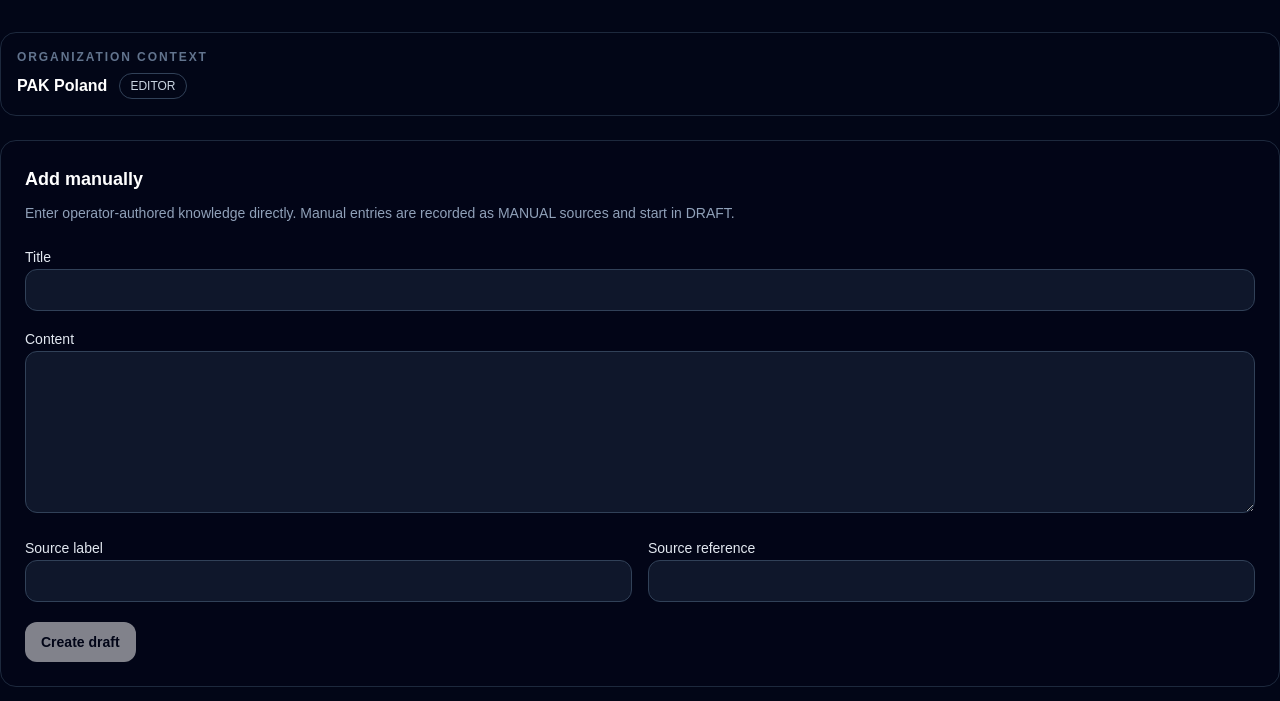
Scenario: KnowledgeBaseManager › always creates manual form records with sourceType MANUAL
Type "Manual programme note" into the field labelled "Title" at point(640, 290), box top-left (25, 269), bottom-right (1255, 311)
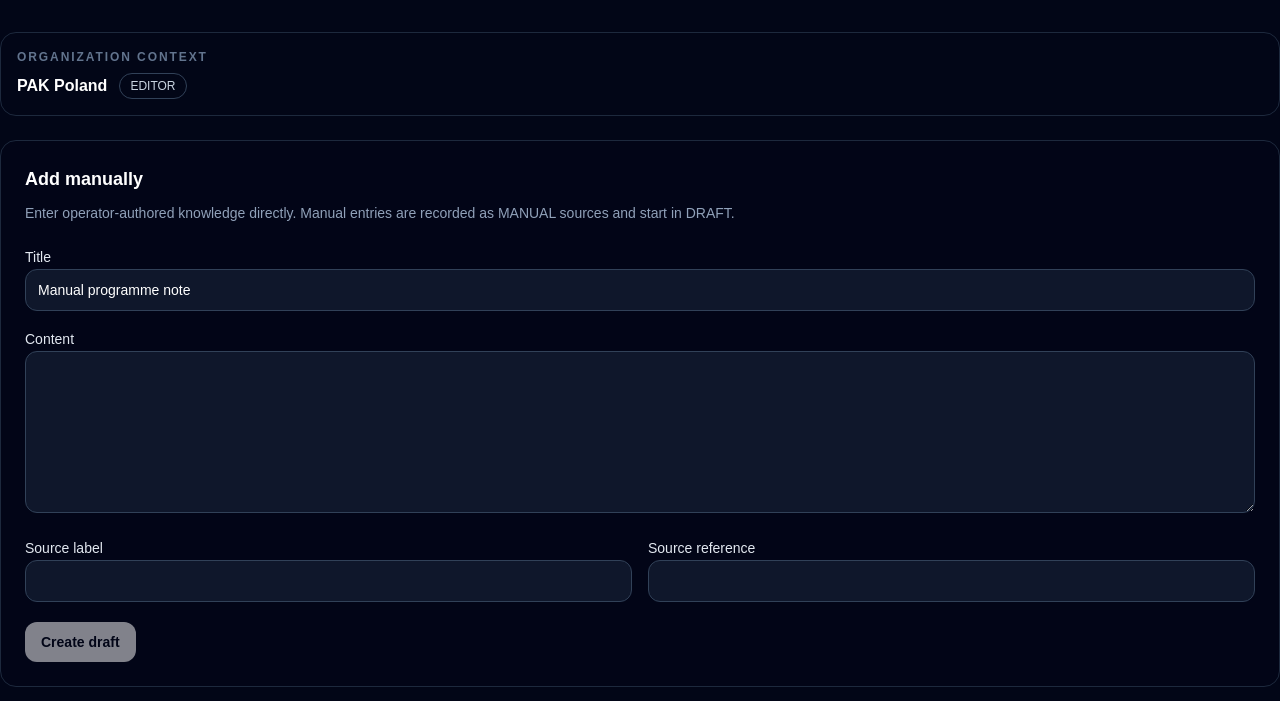
Type "Operator-entered programme context." into the text box labelled "Content" at point(640, 432), box top-left (25, 351), bottom-right (1255, 513)
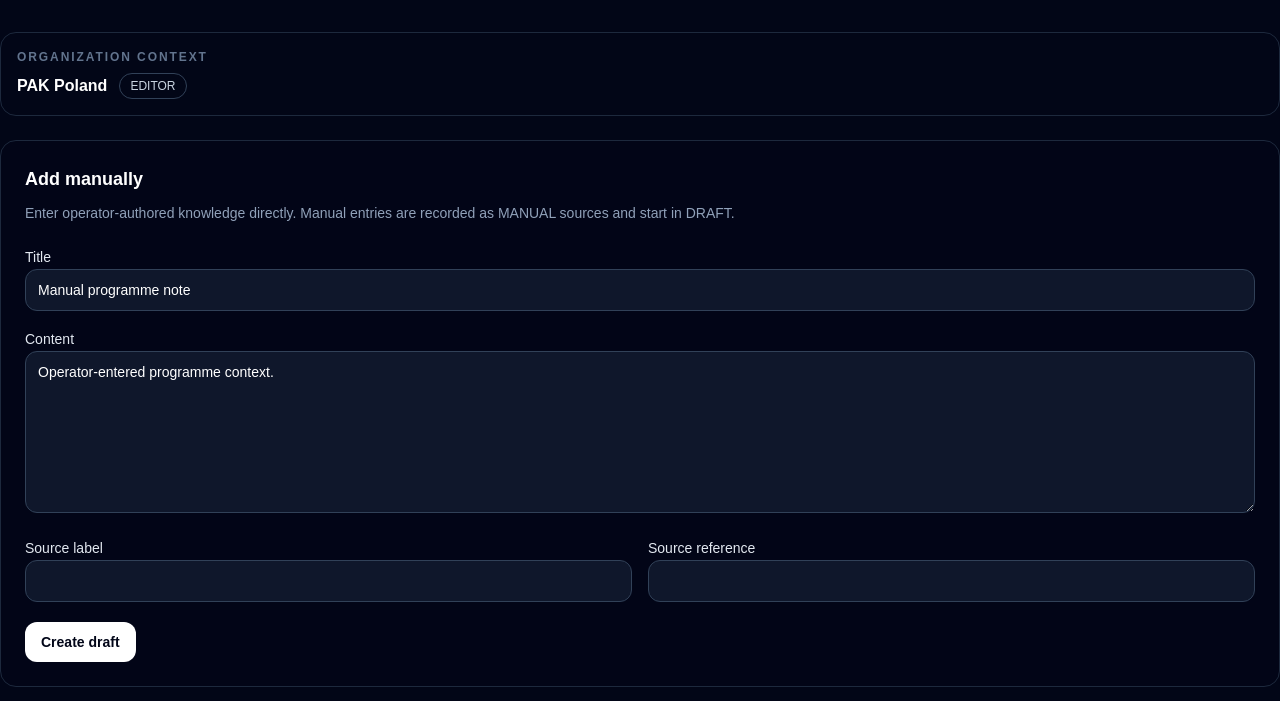
Type "Admissions desk" into the field labelled "Source label" at point(328, 581), box top-left (25, 560), bottom-right (632, 602)
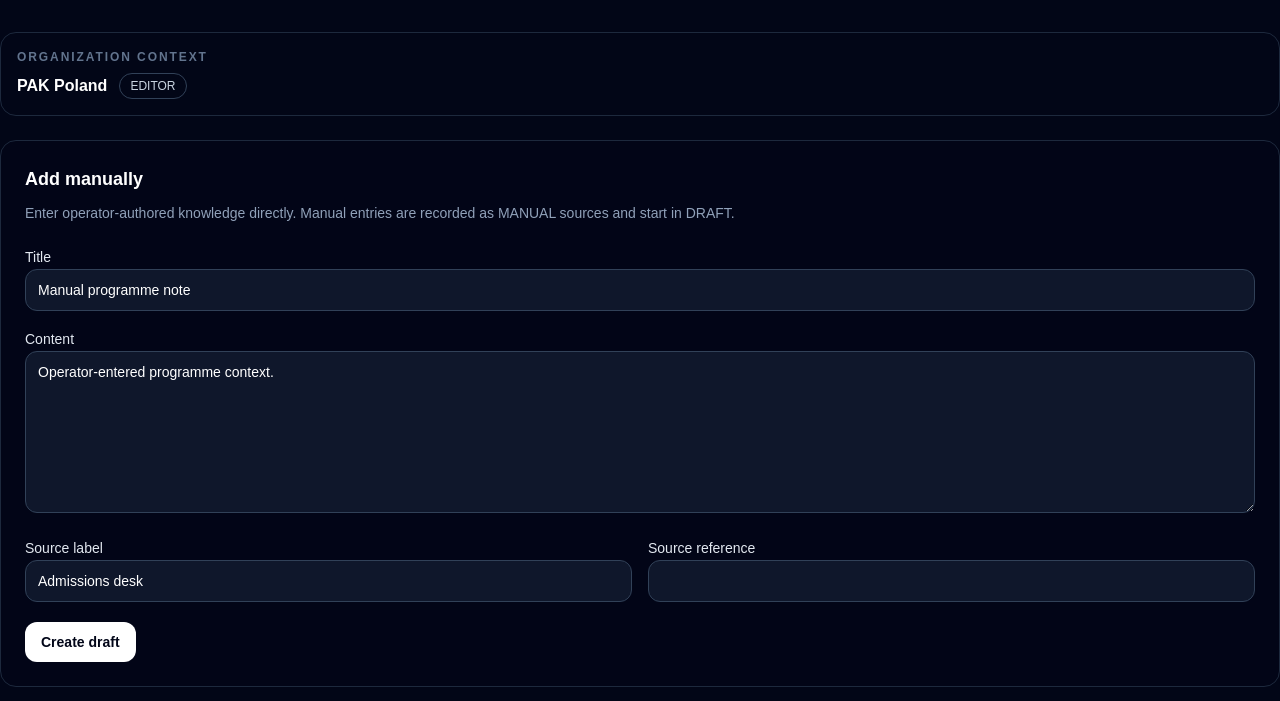
Type "Internal briefing" into the field labelled "Source reference" at point(952, 581), box top-left (648, 560), bottom-right (1255, 602)
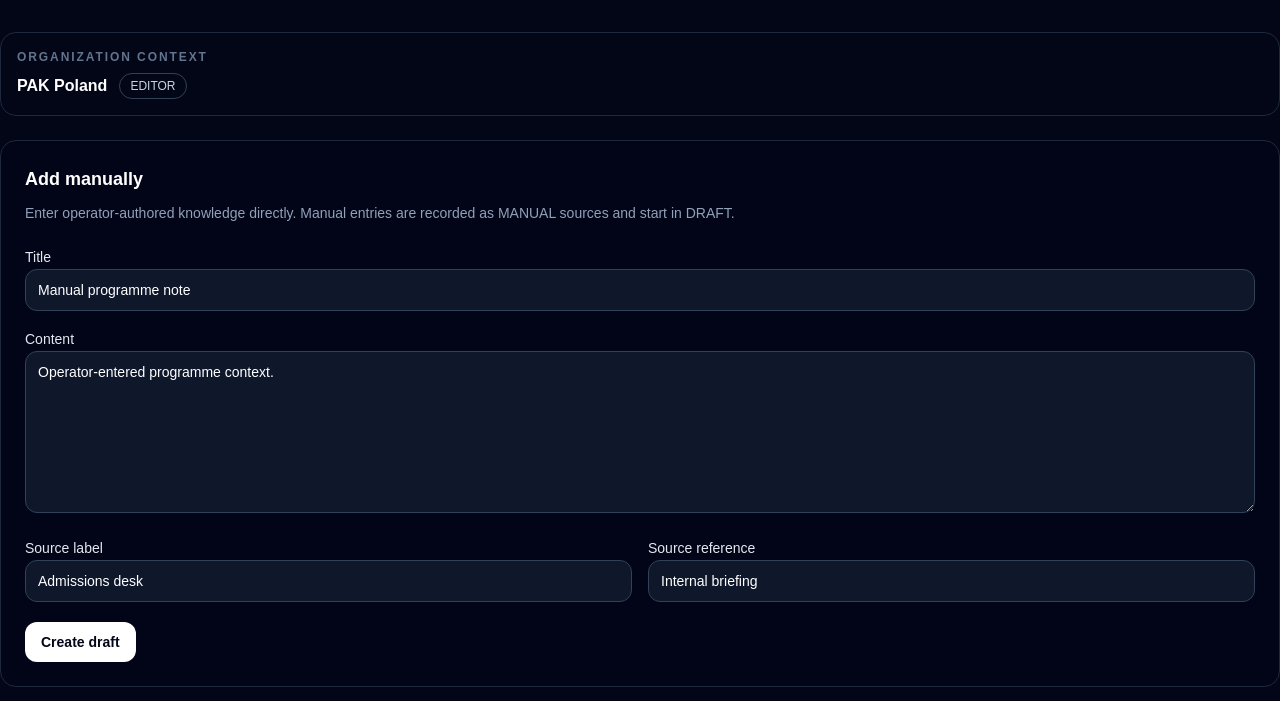
Click the button "Create draft" at point(80, 642), box top-left (25, 622), bottom-right (136, 662)
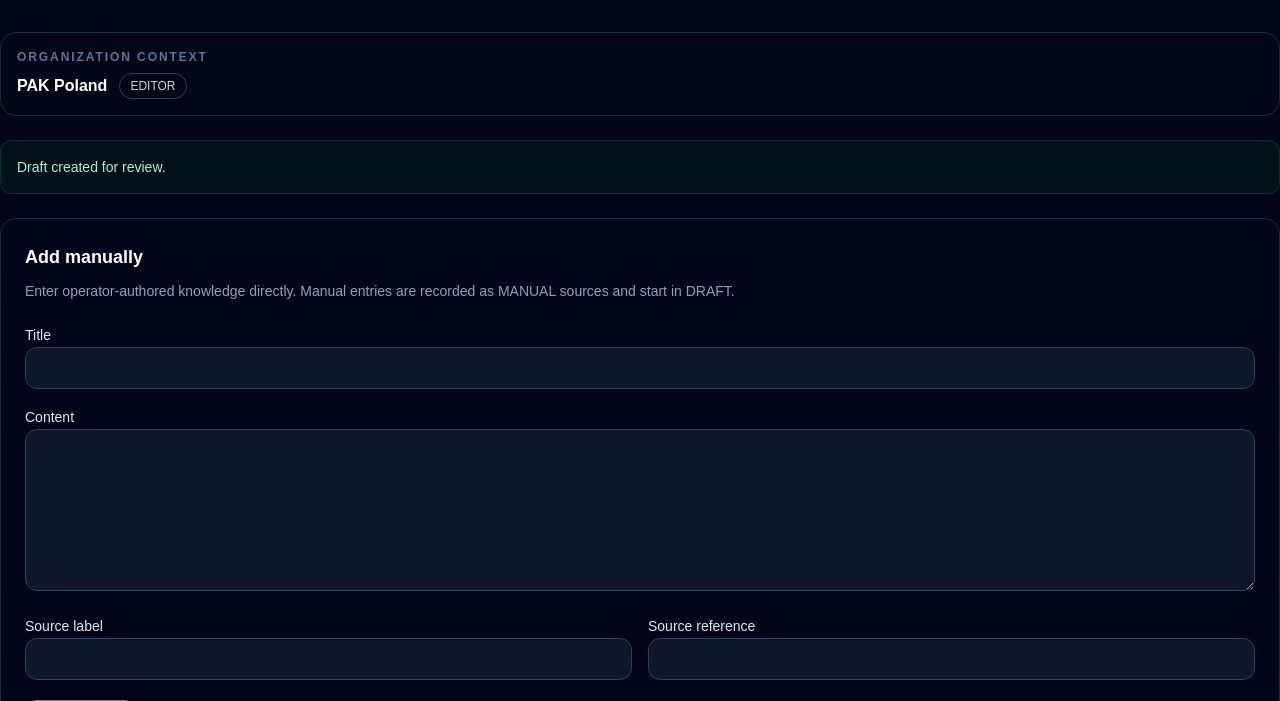
Expected: the text "Draft created for review." is shown, top-left (0, 140), bottom-right (1279, 194)
